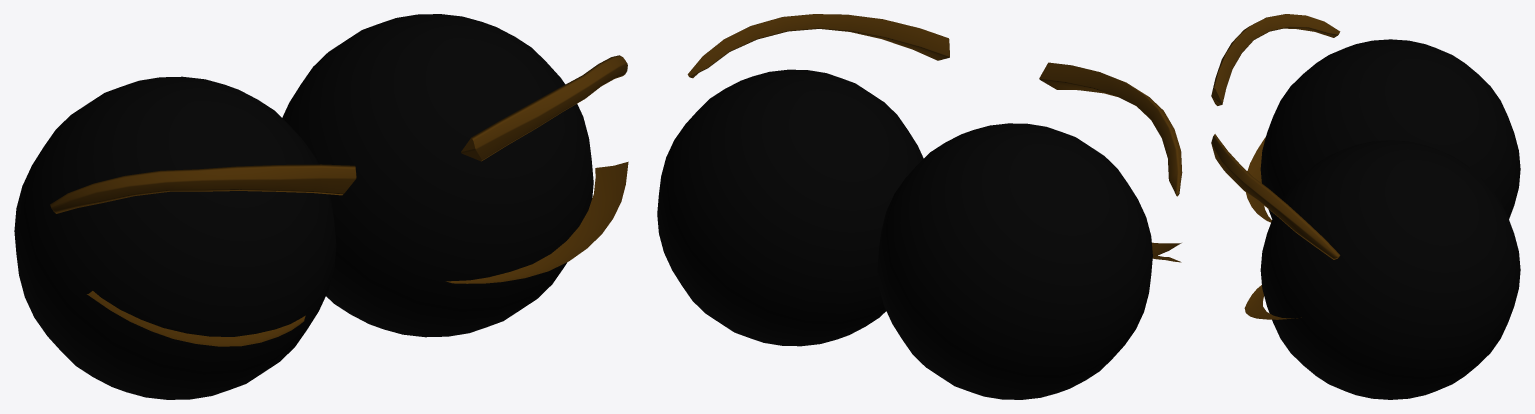
File: Eyes.fbx
3 renders of one model, left to right at view 1: azimuth 30°, elevation 25°; view 2: azimuth 150°, elevation 25°; view 3: azimuth 270°, elevation 25°, orthographic. The views are drawn at different scales.
Visible parts, largest first — view 1: Mery_geo_rg_eye_02, Mery_geo_lf_eye_02, Mery_geo_rg_eyebrow, Mery_geo_lf_eyebrow, Mery_geo_lfup_eyelash, Mery_geo_rgup_eyelash; view 2: Mery_geo_rg_eye_02, Mery_geo_lf_eye_02, Mery_geo_lf_eyebrow, Mery_geo_rg_eyebrow; view 3: Mery_geo_lf_eye_02, Mery_geo_rg_eye_02, Mery_geo_lf_eyebrow, Mery_geo_rg_eyebrow, Mery_geo_rgup_eyelash, Mery_geo_lfup_eyelash.
Boxes of the visible parts, bbox=[...] form: Mery_geo_rg_eye_02: bbox=[14, 76, 336, 399]; Mery_geo_lf_eye_02: bbox=[282, 14, 593, 337]; Mery_geo_rg_eyebrow: bbox=[50, 164, 356, 213]; Mery_geo_lf_eyebrow: bbox=[461, 55, 627, 161]; Mery_geo_lfup_eyelash: bbox=[446, 161, 628, 283]; Mery_geo_rgup_eyelash: bbox=[87, 291, 305, 346]; Mery_geo_rg_eye_02: bbox=[877, 123, 1152, 399]; Mery_geo_lf_eye_02: bbox=[657, 69, 923, 346]; Mery_geo_lf_eyebrow: bbox=[687, 14, 949, 78]; Mery_geo_rg_eyebrow: bbox=[1039, 62, 1182, 196]; Mery_geo_lf_eye_02: bbox=[1260, 140, 1520, 399]; Mery_geo_rg_eye_02: bbox=[1260, 39, 1520, 218]; Mery_geo_lf_eyebrow: bbox=[1211, 134, 1340, 259]; Mery_geo_rg_eyebrow: bbox=[1211, 14, 1340, 105]; Mery_geo_rgup_eyelash: bbox=[1246, 137, 1271, 222]; Mery_geo_lfup_eyelash: bbox=[1244, 285, 1301, 319].
Size of the model in its own units: 0.1876 by 0.0925 by 0.1092.
